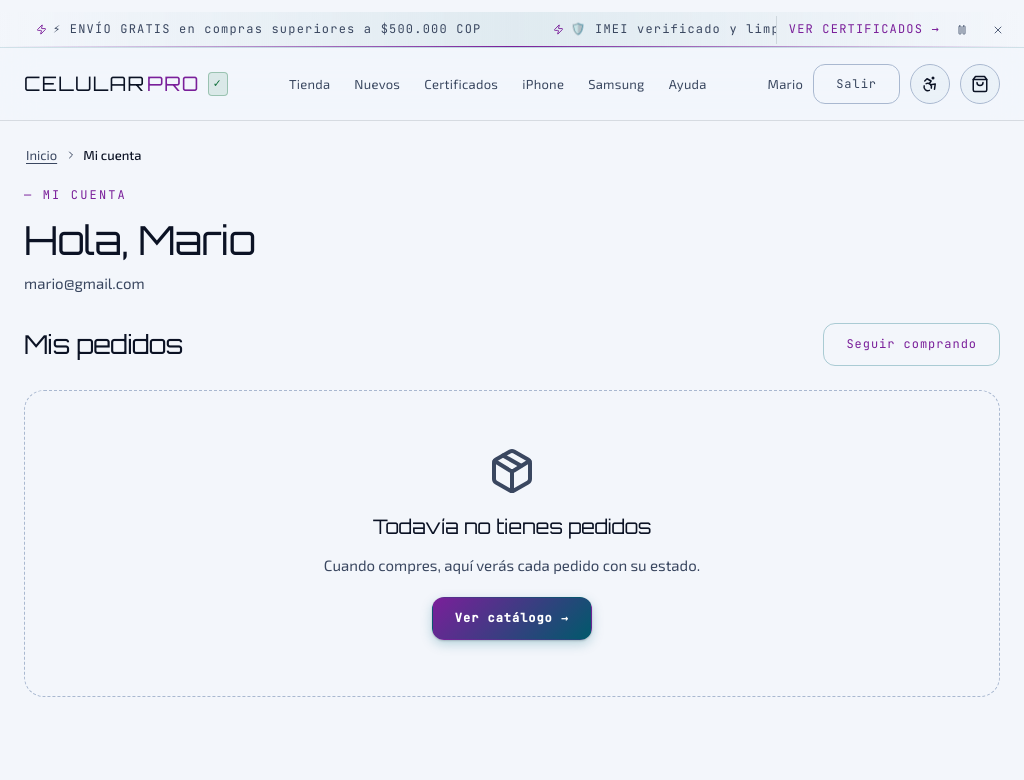
it: Sesión — equivalente a GET /auth/me › cerrar sesión borra el token y vuelve a /login
This screenshot has width=1024, height=780.
Expected: the heading "Hola, Mario" is shown, [24,215,255,265]
Click the button "Salir" at (857, 84), box [813,64,900,104]
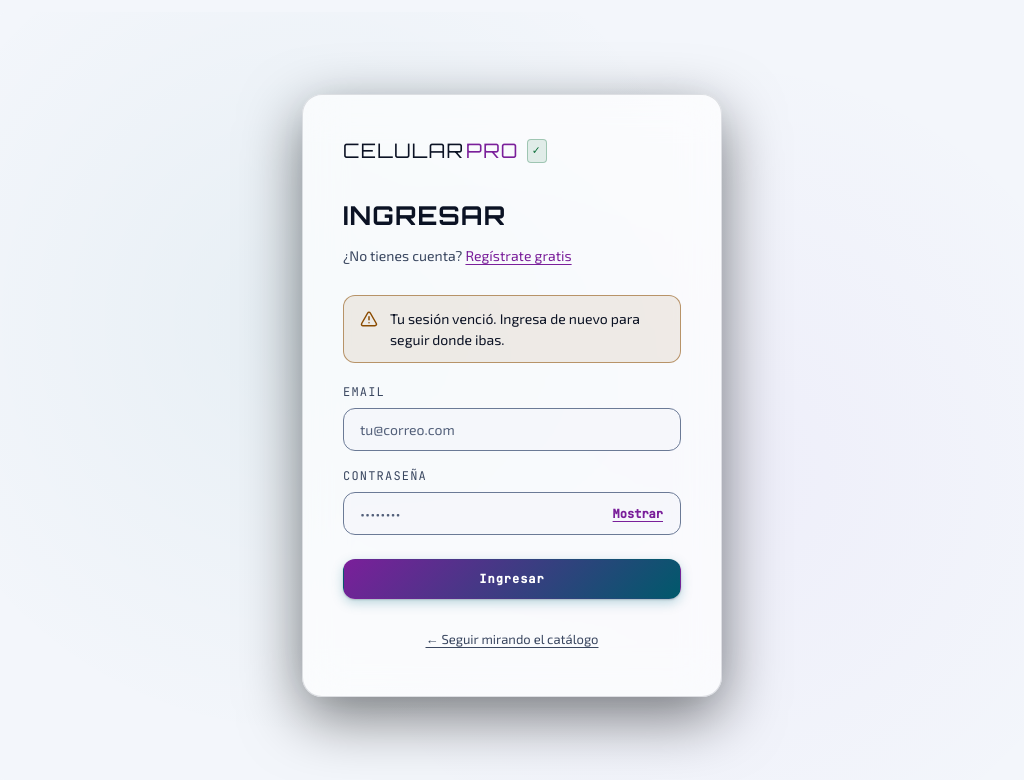
Now the heading "Ingresar" is shown, box [343,199,506,231]
